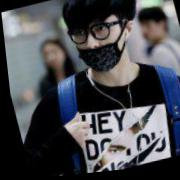NONE: (41, 46, 67, 71), (138, 23, 159, 45)
WRONG: (66, 9, 130, 78)
